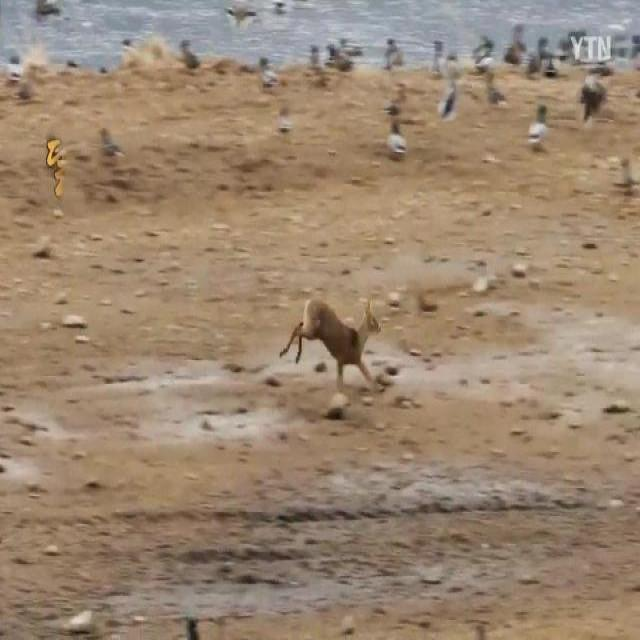deer: (279, 296, 383, 399)
